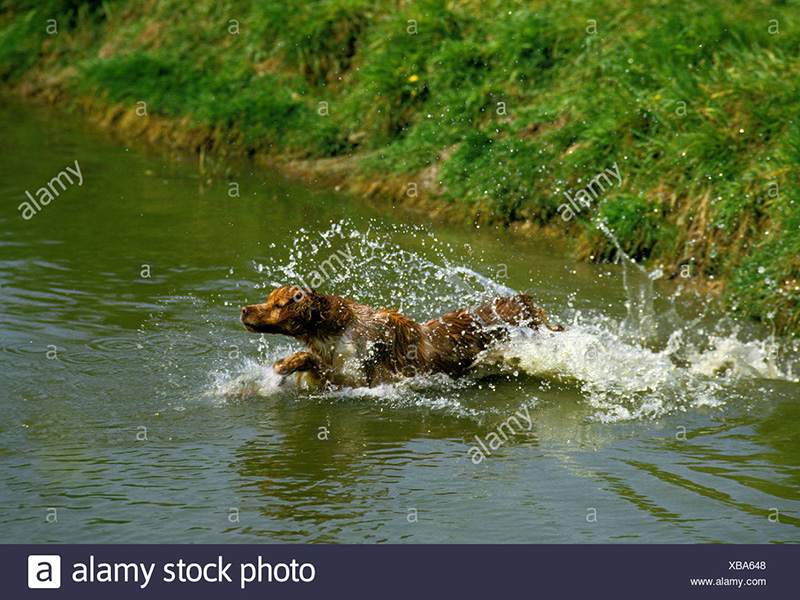cane da caccia: (243, 274, 561, 408)
